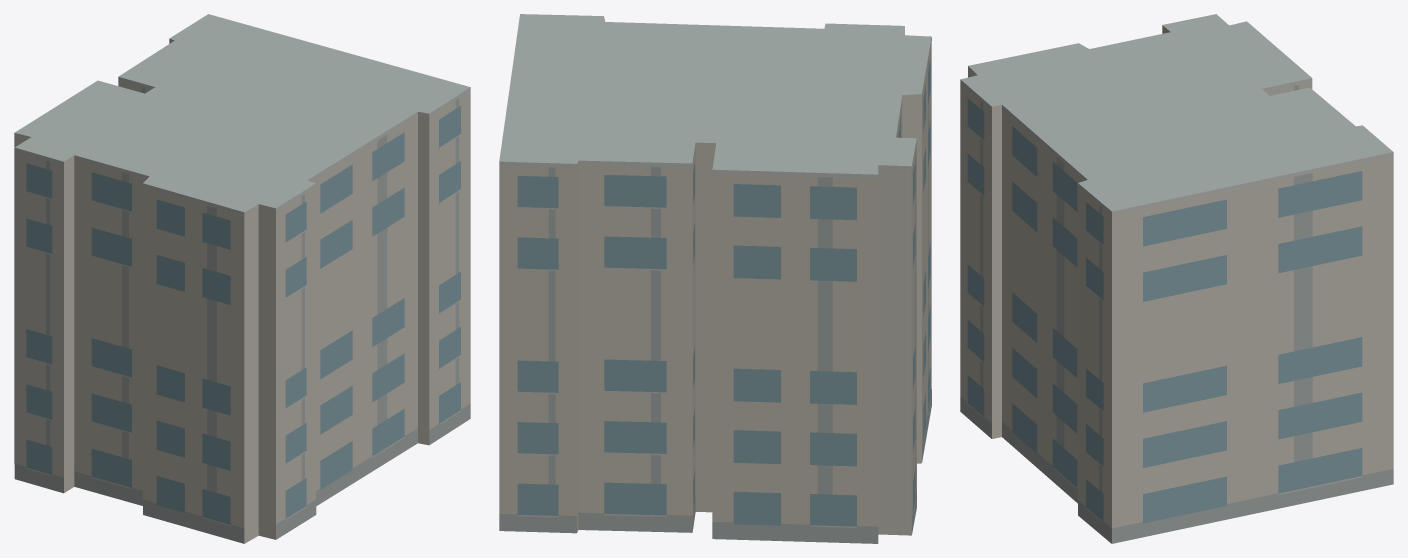
Rendered from survey-upis-32704897.glb.
3 views of the same model, side by side, from view 1: azimuth 30°, elevation 25°; view 2: azimuth 150°, elevation 25°; view 3: azimuth 270°, elevation 25° (orthographic). The views are drawn at different scales.
Parts seen in each view (by area): view 1: survey-upis-32704897.tmp; view 2: survey-upis-32704897.tmp; view 3: survey-upis-32704897.tmp.
Part boxes in pixels (x1=…): survey-upis-32704897.tmp: x1=14, y1=14, x2=470, y2=543; survey-upis-32704897.tmp: x1=499, y1=14, x2=931, y2=543; survey-upis-32704897.tmp: x1=960, y1=14, x2=1393, y2=543.
Bounding box in the file's own units: 26.65 × 20.9 × 24.69.
